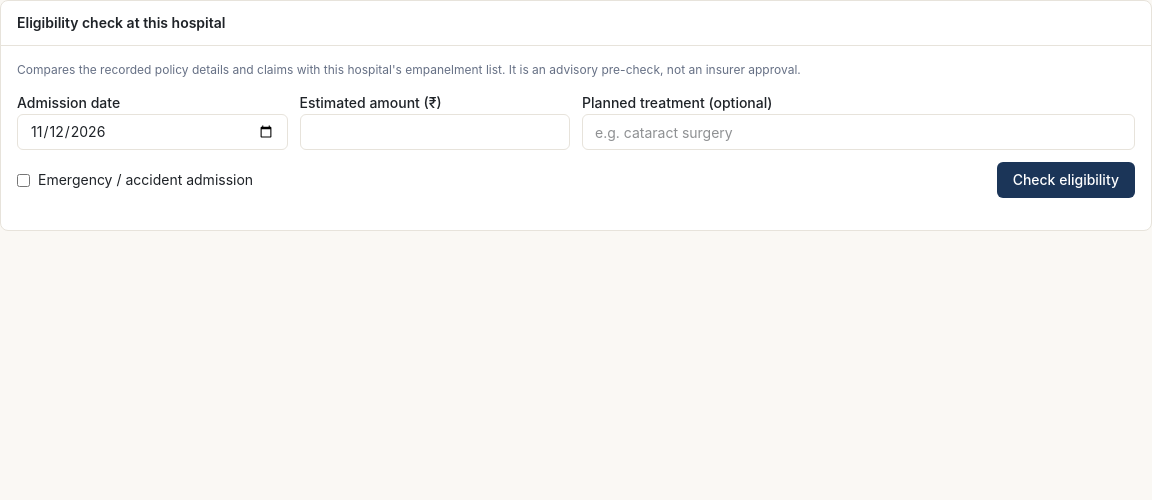
Scenario: EligibilityPanel › shows the verdict, each check with its source, and the advisory disclaimer
Type "knee replacement" into the field labelled "Planned treatment (optional)" at coordinates (858, 132), box 582,114 -> 1135,150
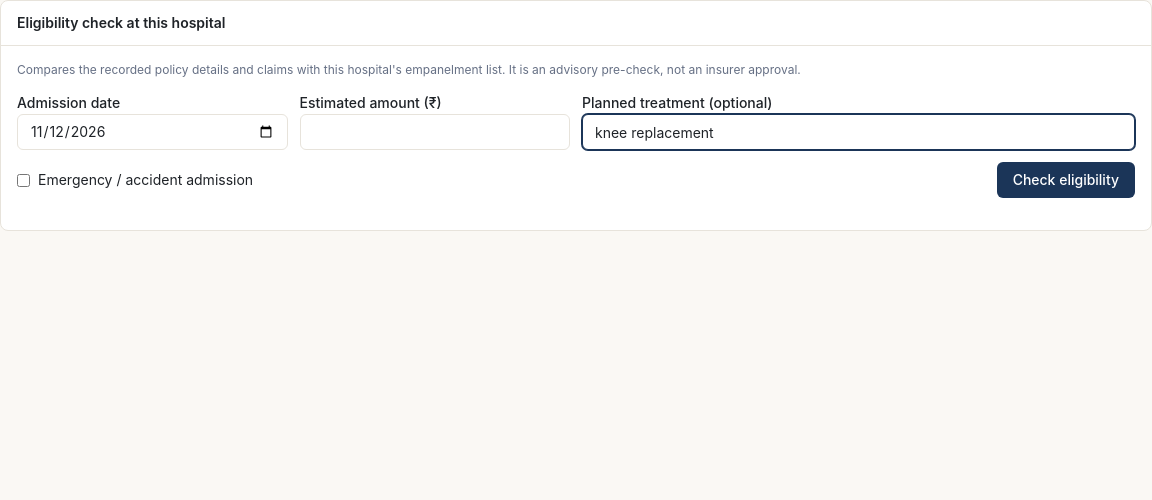
Click the button "Check eligibility" at coordinates (1066, 180), box 997,162 -> 1135,198
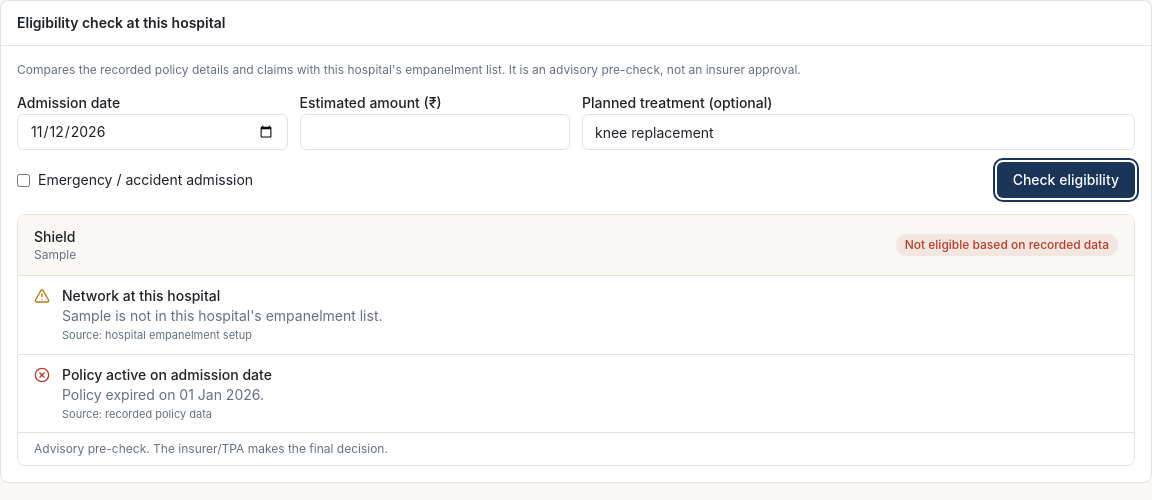
Expected: the element with test id "eligibility-result" shows "Not eligible based on recorded data", 905,237 -> 1109,252
Expected: the element with test id "eligibility-result" shows "Policy expired on 01 Jan 2026.", 62,386 -> 264,403
Expected: the element with test id "eligibility-result" shows "Source: hospital empanelment setup", 62,328 -> 252,342
